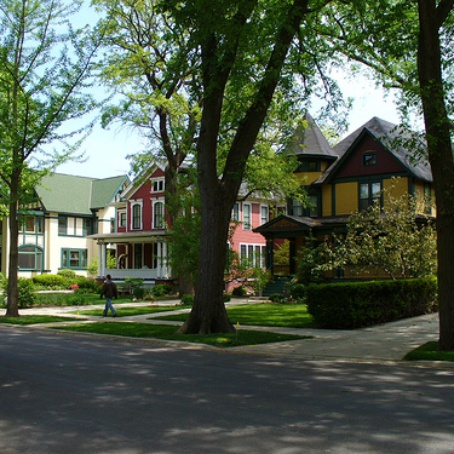building: (261, 109, 431, 294), (88, 167, 274, 288), (11, 172, 129, 283)
street: (1, 326, 454, 454)
tree: (146, 1, 299, 313), (365, 1, 454, 340), (1, 43, 95, 286)
